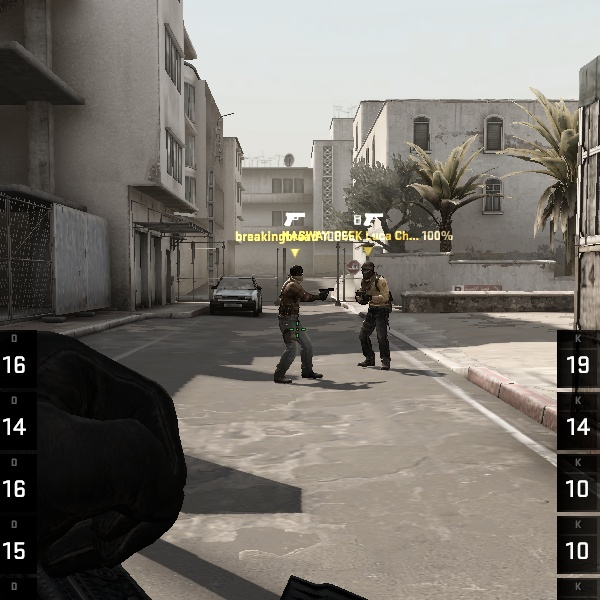t_body: (275, 265, 326, 381), (355, 261, 394, 370)
t_head: (289, 265, 304, 286), (361, 261, 375, 280)
